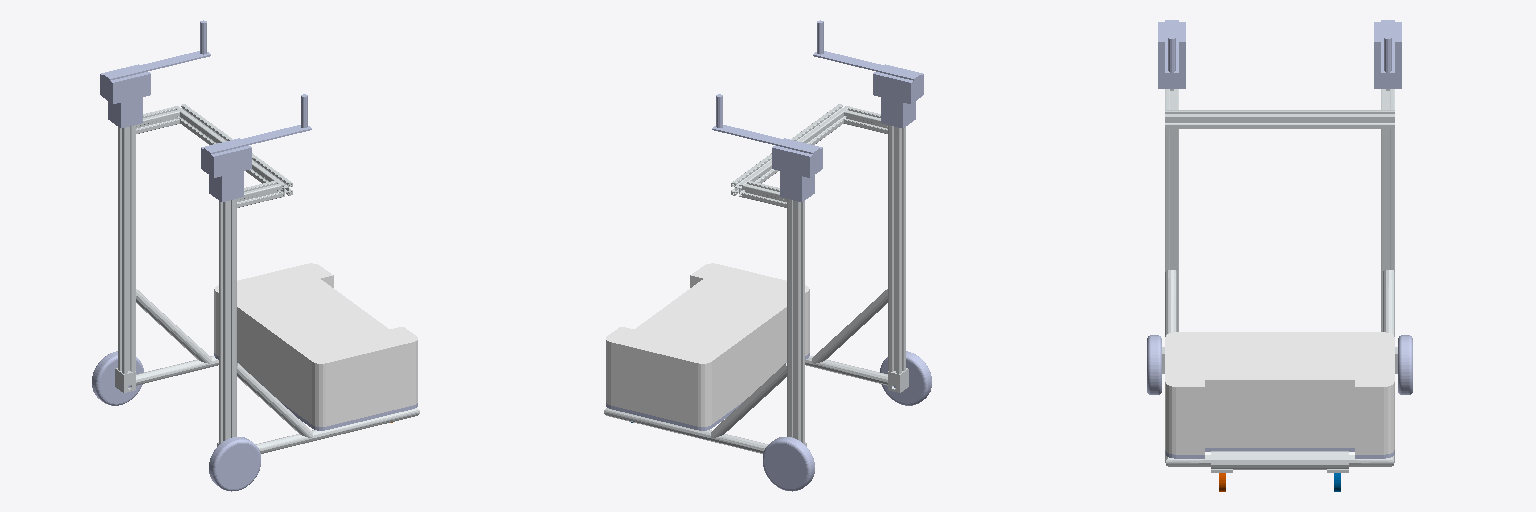
robot.urdf — bmt_walker:
<?xml version="1.0" ?>
<!-- =================================================================================== -->
<!-- |    This document was autogenerated by xacro from bmt_sw_description.xacro       | -->
<!-- |    EDITING THIS FILE BY HAND IS NOT RECOMMENDED                                 | -->
<!-- =================================================================================== -->
<robot name="bmt_walker" xmlns:xacro="http://ros.org/wiki/xacro">
  <!-- base_footprint is a fictitious link(frame) that is on the ground right below base_link origin -->
  <link name="base_footprint">
    <inertial>
      <mass value="0.0001"/>
      <origin xyz="0 0 0"/>
      <inertia ixx="0.0001" ixy="0.0" ixz="0.0" iyy="0.0001" iyz="0.0" izz="0.0001"/>
    </inertial>
  </link>
  <joint name="base_footprint_joint" type="fixed">
    <origin rpy="0 0 0" xyz="0 0 -0.0675"/>
    <parent link="base_link"/>
    <child link="base_footprint"/>
  </joint>
  <gazebo reference="base_footprint">
    <turnGravityOff>false</turnGravityOff>
  </gazebo>
  <!-- Base link is the center of rotation of the robot -->
  <link name="base_link">
    <inertial>
      <origin rpy="0 0 0" xyz="0 0 0"/>
      <mass value="23.3"/>
      <inertia ixx="0.807" ixy="0" ixz="0" iyy="0.807" iyz="0" izz="0.807"/>
    </inertial>
    <visual>
      <origin rpy="0 0 3.14159265359" xyz="0 0 0"/>
      <geometry>
        <mesh filename="package://bmt_sw_description/meshes/base_link_nowheels.STL"/>
      </geometry>
      <material name="">
        <color rgba="0.898039215686275 0.917647058823529 0.929411764705882 1"/>
      </material>
    </visual>
    <collision>
      <!--origin xyz="${base_x_size/2} 0 ${base_z_size/4}" rpy="0 0 0" /-->
      <origin rpy="0 0 3.14159265359" xyz="0 0 0"/>
      <geometry>
        <mesh filename="package://bmt_sw_description/meshes/base_link_nowheels.STL"/>
      </geometry>
    </collision>
  </link>
  <gazebo reference="base_link">
    <material>Gazebo/White</material>
    <turnGravityOff>false</turnGravityOff>
  </gazebo>
  <!--Left wheel-->
  <link name="left_wheel">
    <inertial>
      <origin rpy="0 0 0" xyz="0 0 0"/>
      <mass value="2.4"/>
      <inertia ixx="0.00952875" ixy="0" ixz="0" iyy="0.00952875" iyz="0" izz="0.0081675"/>
    </inertial>
    <visual>
      <origin rpy="-1.570796327 1.570796327 0" xyz="0 0 0"/>
      <geometry>
        <mesh filename="package://bmt_sw_description/meshes/left_wheel.STL"/>
      </geometry>
      <material name="">
        <color rgba="0.792156862745098 0.819607843137255 0.933333333333333 1"/>
      </material>
    </visual>
    <collision>
      <origin rpy="-1.570796327 1.570796327 0" xyz="0 0.055 0"/>
      <geometry>
        <!--mesh filename="package://bmt_sw_description/meshes/left_wheel.STL" /-->
        <cylinder length="0.045" radius="0.0825"/>
      </geometry>
    </collision>
  </link>
  <gazebo reference="left_wheel">
    <mu1 value="1.0"/>
    <mu2 value="1.0"/>
    <kp value="10000000.0"/>
    <kd value="1.0"/>
    <fdir1 value="1 0 0"/>
    <material>Gazebo/Grey</material>
    <turnGravityOff>false</turnGravityOff>
  </gazebo>
  <joint name="left_wheel_joint" type="continuous">
    <parent link="base_link"/>
    <child link="left_wheel"/>
    <origin rpy="0 0 0" xyz="0 0.285 0"/>
    <axis xyz="0 1 0"/>
    <limit effort="100" velocity="100"/>
    <joint_properties damping="0.0" friction="0.5"/>
  </joint>
  <transmission name="left_wheel_trans" type="SimpleTransmission">
    <type>transmission_interface/SimpleTransmission</type>
    <joint name="left_wheel_joint"/>
    <actuator name="left_wheel_motor">
      <hardwareInterface>EffortJointInterface</hardwareInterface>
      <mechanicalReduction>1</mechanicalReduction>
    </actuator>
  </transmission>
  <!--Right wheel-->
  <link name="right_wheel">
    <inertial>
      <origin rpy="0 0 0" xyz="0 0 0"/>
      <mass value="2.4"/>
      <inertia ixx="0.00952875" ixy="0" ixz="0" iyy="0.00952875" iyz="0" izz="0.0081675"/>
    </inertial>
    <visual>
      <origin rpy="-1.570796327 1.570796327 3.14159265359" xyz="0 0 0"/>
      <geometry>
        <mesh filename="package://bmt_sw_description/meshes/left_wheel.STL"/>
      </geometry>
      <material name="">
        <color rgba="0.792156862745098 0.819607843137255 0.933333333333333 1"/>
      </material>
    </visual>
    <collision>
      <origin rpy="-1.570796327 1.570796327 3.14159265359" xyz="0 -0.055 0"/>
      <geometry>
        <!--mesh filename="package://bmt_sw_description/meshes/left_wheel.STL" /-->
        <cylinder length="0.045" radius="0.0825"/>
      </geometry>
    </collision>
  </link>
  <gazebo reference="right_wheel">
    <mu1 value="1.0"/>
    <mu2 value="1.0"/>
    <kp value="10000000.0"/>
    <kd value="1.0"/>
    <fdir1 value="1 0 0"/>
    <material>Gazebo/Grey</material>
    <turnGravityOff>false</turnGravityOff>
  </gazebo>
  <joint name="right_wheel_joint" type="continuous">
    <parent link="base_link"/>
    <child link="right_wheel"/>
    <origin rpy="0 0 0" xyz="0 -0.285 0"/>
    <axis xyz="0 1 0"/>
    <limit effort="100" velocity="100"/>
    <joint_properties damping="0.0" friction="0.5"/>
  </joint>
  <transmission name="right_wheel_trans" type="SimpleTransmission">
    <type>transmission_interface/SimpleTransmission</type>
    <joint name="right_wheel_joint"/>
    <actuator name="right_wheel_motor">
      <hardwareInterface>EffortJointInterface</hardwareInterface>
      <mechanicalReduction>1</mechanicalReduction>
    </actuator>
  </transmission>
  <!--Left caster wheel-->
  <link name="left_caster">
    <inertial>
      <mass value="0.5"/>
      <origin xyz="0 0 0"/>
      <inertia ixx="0.001" ixy="0.0" ixz="0.0" iyy="0.001" iyz="0.0" izz="0.001"/>
    </inertial>
    <visual>
      <origin rpy="1.570796327 0 0" xyz="0 0 0"/>
      <geometry>
        <cylinder length="0.02" radius="0.032"/>
      </geometry>
      <material name="DarkGray"/>
    </visual>
    <collision>
      <origin rpy="1.570796327 0 0" xyz="0 0 0"/>
      <geometry>
        <cylinder length="0.02" radius="0.032"/>
      </geometry>
    </collision>
  </link>
  <joint name="left_caster_joint" type="fixed">
    <parent link="base_link"/>
    <child link="left_caster"/>
    <origin rpy="0 0 0" xyz="0.6315 0.159 -0.05325"/>
  </joint>
  <gazebo reference="left_caster">
    <turnGravityOff>false</turnGravityOff>
  </gazebo>
  <!-- Right caster wheel-->
  <link name="right_caster">
    <inertial>
      <mass value="0.5"/>
      <origin xyz="0 0 0"/>
      <inertia ixx="0.001" ixy="0.0" ixz="0.0" iyy="0.001" iyz="0.0" izz="0.001"/>
    </inertial>
    <visual>
      <origin rpy="1.570796327 0 0" xyz="0 0 0"/>
      <geometry>
        <cylinder length="0.02" radius="0.032"/>
      </geometry>
      <material name="DarkGray"/>
    </visual>
    <collision>
      <origin rpy="1.570796327 0 0" xyz="0 0 0"/>
      <geometry>
        <cylinder length="0.02" radius="0.032"/>
      </geometry>
    </collision>
  </link>
  <joint name="right_caster_joint" type="fixed">
    <parent link="base_link"/>
    <child link="right_caster"/>
    <origin rpy="0 0 0" xyz="0.6315 -0.159 -0.05325"/>
  </joint>
  <gazebo reference="right_caster">
    <turnGravityOff>false</turnGravityOff>
  </gazebo>
  <!-- Left force link-->
  <link name="left_force">
    <inertial>
      <origin rpy="0 0 0" xyz="0 0 0"/>
      <mass value="1.26336608136047"/>
      <inertia ixx="0.00222782751505132" ixy="0" ixz="0" iyy="0.00235615491759392" iyz="0" izz="0.0001283274025426"/>
    </inertial>
    <visual>
      <origin rpy="0 0 3.14159265359" xyz="0 0 0.0381"/>
      <geometry>
        <mesh filename="package://bmt_sw_description/meshes/left_force.STL"/>
      </geometry>
      <material name="">
        <color rgba="0.792156862745098 0.819607843137255 0.933333333333333 1"/>
      </material>
    </visual>
    <collision>
      <origin rpy="0 0 3.14159265359" xyz="0 0 0.0381"/>
      <geometry>
        <mesh filename="package://bmt_sw_description/meshes/left_force.STL"/>
      </geometry>
    </collision>
  </link>
  <joint name="left_force_base" type="fixed">
    <origin rpy="0 0 0" xyz="-0.00175 0.29725 0.9025"/>
    <parent link="base_link"/>
    <child link="left_force"/>
    <!--axis xyz="0 0 0" /-->
  </joint>
  <!--Right force link-->
  <link name="right_force">
    <inertial>
      <origin rpy="0 0 0" xyz="0 0 0"/>
      <mass value="1.26336608136047"/>
      <inertia ixx="0.00222782751505132" ixy="0" ixz="0" iyy="0.00235615491759392" iyz="0" izz="0.0001283274025426"/>
    </inertial>
    <visual>
      <origin rpy="0 0 3.14159265359" xyz="0 0 0.0381"/>
      <geometry>
        <mesh filename="package://bmt_sw_description/meshes/left_force.STL"/>
      </geometry>
      <material name="">
        <color rgba="0.792156862745098 0.819607843137255 0.933333333333333 1"/>
      </material>
    </visual>
    <collision>
      <origin rpy="0 0 3.14159265359" xyz="0 0 0.0381"/>
      <geometry>
        <mesh filename="package://bmt_sw_description/meshes/left_force.STL"/>
      </geometry>
    </collision>
  </link>
  <joint name="right_force_base" type="fixed">
    <origin rpy="0 0 0" xyz="-0.00175 -0.29725 0.9025"/>
    <parent link="base_link"/>
    <child link="right_force"/>
    <!--axis xyz="0 0 0" /-->
  </joint>
  <!--Deck0 link-->
  <link name="deck_0">
    <inertial>
      <origin rpy="0 0 0" xyz="0 0 0"/>
      <mass value="1.4"/>
      <inertia ixx="0" ixy="0" ixz="0" iyy="0" iyz="0" izz="0"/>
    </inertial>
    <visual>
      <origin rpy="1.570796327 0 1.570796327" xyz="0 0 0.016"/>
      <geometry>
        <mesh filename="package://bmt_sw_description/meshes/deck_0.STL"/>
      </geometry>
      <material name="">
        <color rgba="0.792156862745098 0.819607843137255 0.933333333333333 1"/>
      </material>
    </visual>
    <collision>
      <origin rpy="1.570796327 0 1.570796327" xyz="0 0 0"/>
      <geometry>
        <mesh filename="package://bmt_sw_description/meshes/deck_0.STL"/>
      </geometry>
    </collision>
  </link>
  <joint name="deck_0_base" type="fixed">
    <origin rpy="0 0 0" xyz="0.47516 0 0.027"/>
    <parent link="base_link"/>
    <child link="deck_0"/>
    <axis xyz="0 0 0"/>
  </joint>
  <!--Deck1 link-->
  <link name="deck_1">
    <inertial>
      <origin rpy="0 0 0" xyz="0 0 0"/>
      <mass value="11.57148011871309"/>
      <inertia ixx="0" ixy="0" ixz="0" iyy="0" iyz="0" izz="0"/>
    </inertial>
    <visual>
      <origin rpy="3.14159265359 0 -1.570796327" xyz="0 0 -0.207"/>
      <geometry>
        <mesh filename="package://bmt_sw_description/meshes/deck_1.STL"/>
      </geometry>
      <material name="">
        <color rgba="1 1 1 1"/>
      </material>
    </visual>
    <collision>
      <origin rpy="3.14159265359 0 1.570796327" xyz="0 0 -0.207"/>
      <geometry>
        <mesh filename="package://bmt_sw_description/meshes/deck_1.STL"/>
      </geometry>
    </collision>
  </link>
  <joint name="deck_1_base" type="fixed">
    <origin rpy="0 0 0" xyz="0 0 0.213"/>
    <parent link="deck_0"/>
    <child link="deck_1"/>
    <axis xyz="0 0 0"/>
  </joint>
  <!-- Differential drive controller  -->
  <gazebo>
    <plugin filename="libgazebo_ros_diff_drive.so" name="differential_drive_controller">
      <legacyMode>true</legacyMode>
      <rosDebugLevel>Debug</rosDebugLevel>
      <publishWheelTF>true</publishWheelTF>
      <robotNamespace>/</robotNamespace>
      <publishTf>1</publishTf>
      <publishWheelJointState>false</publishWheelJointState>
      <publishOdomTF>true</publishOdomTF>
      <alwaysOn>true</alwaysOn>
      <updateRate>100.0</updateRate>
      <leftJoint>left_wheel_joint</leftJoint>
      <rightJoint>right_wheel_joint</rightJoint>
      <wheelSeparation>0.66</wheelSeparation>
      <wheelDiameter>0.165</wheelDiameter>
      <broadcastTF>1</broadcastTF>
      <wheelTorque>30</wheelTorque>
      <wheelAcceleration>1.8</wheelAcceleration>
      <commandTopic>cmd_vel</commandTopic>
      <odometryFrame>odom</odometryFrame>
      <odometryTopic>odom</odometryTopic>
      <robotBaseFrame>base_footprint</robotBaseFrame>
    </plugin>
  </gazebo>
</robot>

--- What the picture shows (computed from the rendered views, not written in the file) ---
3 views of the same robot in one strip: view 1: azimuth 30°, elevation 25°; view 2: azimuth 150°, elevation 25°; view 3: azimuth 270°, elevation 25° (orthographic).
Robot: bmt_walker — 10 links, 9 joints (2 continuous, 7 fixed); root link base_link; default pose: all joints at 0.
Links seen in each view (by area): view 1: deck_1, base_link, right_force, left_force, right_wheel, left_wheel; view 2: deck_1, base_link, left_force, right_force, left_wheel, right_wheel; view 3: deck_1, base_link, left_force, right_force, left_wheel, right_wheel, deck_0.
Link boxes in pixels (x1,y1,x2,y2): deck_1: (214, 263, 417, 426); base_link: (115, 104, 419, 453); right_force: (201, 94, 311, 201); left_force: (100, 20, 210, 128); right_wheel: (209, 437, 260, 491); left_wheel: (92, 351, 143, 405); deck_1: (606, 263, 809, 426); base_link: (604, 104, 908, 453); left_force: (712, 94, 822, 201); right_force: (813, 20, 923, 128); left_wheel: (763, 437, 814, 491); right_wheel: (880, 351, 931, 405); deck_1: (1165, 332, 1394, 454); base_link: (1162, 89, 1397, 472); left_force: (1374, 20, 1401, 88); right_force: (1158, 20, 1185, 88); left_wheel: (1398, 335, 1412, 394); right_wheel: (1147, 335, 1161, 394); deck_0: (1165, 448, 1394, 458).
Bounding box of the posed robot: 0.746 × 0.73 × 1.2 m (x, y, z).
Meshes: 5 distinct files referenced, 7 mesh visuals loaded (5 binary STL).